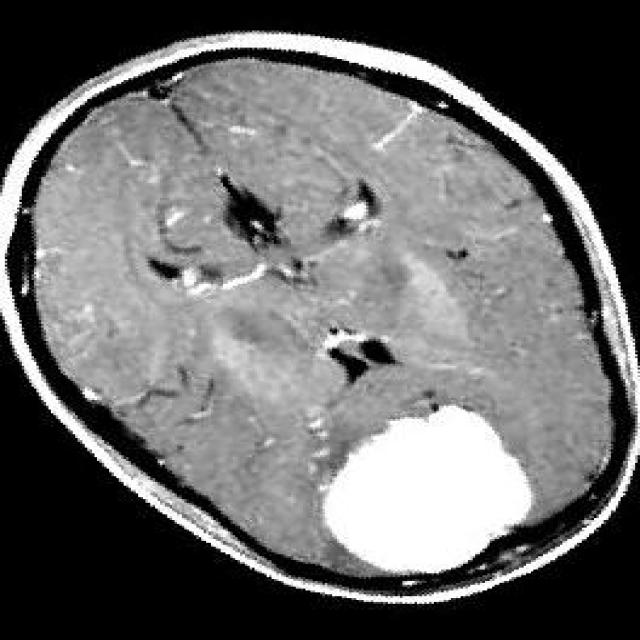Tumor-Cell: (316, 394, 543, 581)
